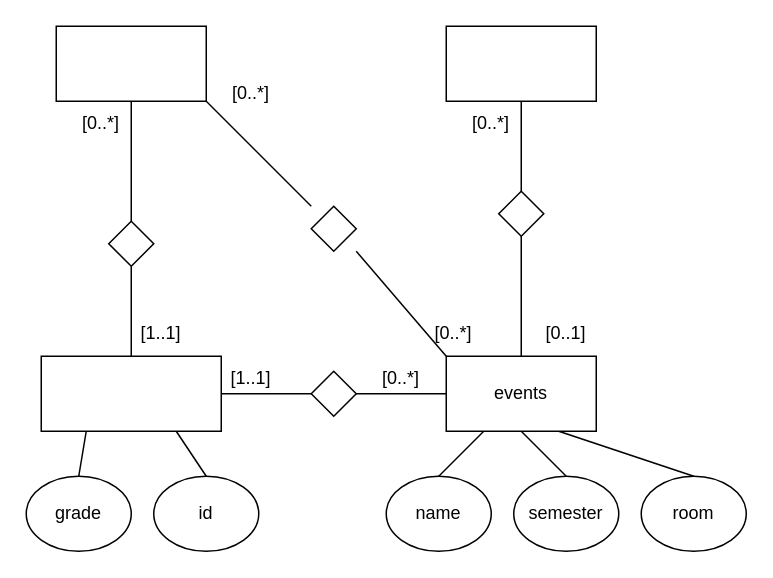
Some shapes in this 773 by 578 pixel diagram are drawn without their labels. Here are the shapes that lost their labels. From the top down, the centre of each, then its label:
pixel 130 63: students
pixel 520 63: lecturers
pixel 130 393: students_in_events
